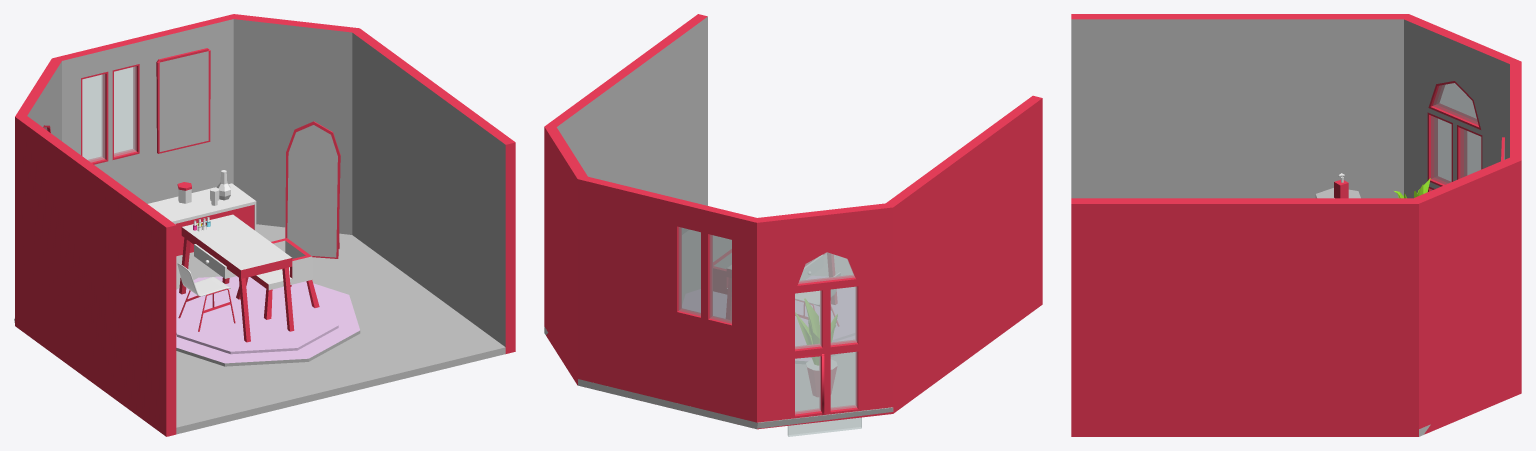
Rendered from p_oda.obj.
3 views of the same model, side by side, from view 1: azimuth 30°, elevation 25°; view 2: azimuth 150°, elevation 25°; view 3: azimuth 270°, elevation 25° (orthographic). The views are drawn at different scales.
Parts seen in each view (by area): view 1: Cube.121_wall_pembe, Cube.121_m_çingenepembe, Cube.121_zemin_pembe, Cube.121_m_pembe, Cube.121_m_white, Cube.121_tablo_pembe, Cube.121_m_cam, Cube.121_, Cube.121_m_beyaz; view 2: Cube.121_m_çingenepembe, Cube.121_wall_pembe, Cube.121_m_cam, Cube.121_zemin_pembe, Cube.121_m_pembe, Cube.121_m_açıkgreen; view 3: Cube.121_m_çingenepembe, Cube.121_wall_pembe, Cube.121_m_cam.
Part boxes in pixels (x1,y1,x2,y2): Cube.121_wall_pembe: [27, 19, 505, 346]; Cube.121_m_çingenepembe: [15, 14, 515, 436]; Cube.121_zemin_pembe: [14, 224, 505, 434]; Cube.121_m_pembe: [176, 276, 359, 363]; Cube.121_m_white: [148, 170, 312, 296]; Cube.121_tablo_pembe: [159, 51, 208, 151]; Cube.121_m_cam: [44, 66, 136, 162]; Cube.121_: [176, 330, 360, 366]; Cube.121_m_beyaz: [193, 217, 236, 278]; Cube.121_m_çingenepembe: [544, 14, 1042, 429]; Cube.121_wall_pembe: [557, 16, 707, 234]; Cube.121_m_cam: [678, 227, 861, 436]; Cube.121_zemin_pembe: [544, 230, 893, 429]; Cube.121_m_pembe: [682, 276, 854, 360]; Cube.121_m_açıkgreen: [795, 299, 837, 365]; Cube.121_m_çingenepembe: [1071, 14, 1521, 436]; Cube.121_wall_pembe: [1071, 19, 1509, 198]; Cube.121_m_cam: [1431, 83, 1481, 190].
Bounding box in the file's own units: 68.08 × 41.45 × 68.21.
